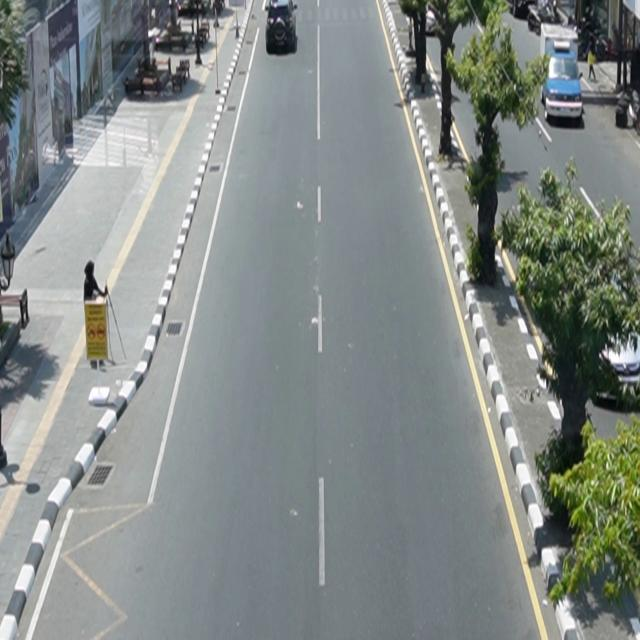car: (542, 54, 584, 122), (267, 1, 299, 55)
